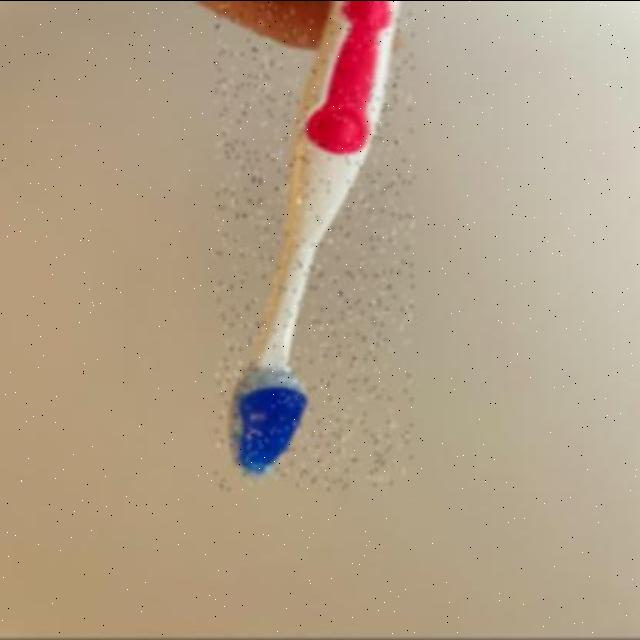toothbrush: (216, 0, 414, 490)
